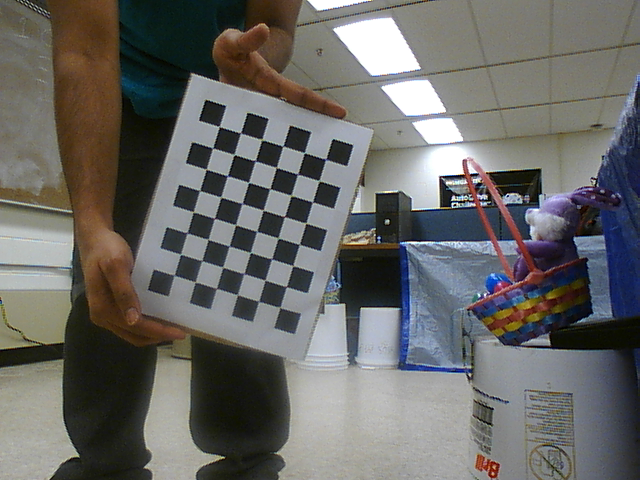bunny: (453, 153, 602, 343)
